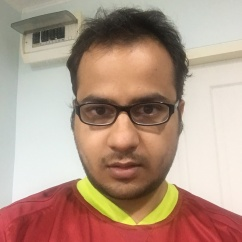glasses: (75, 96, 179, 130)
